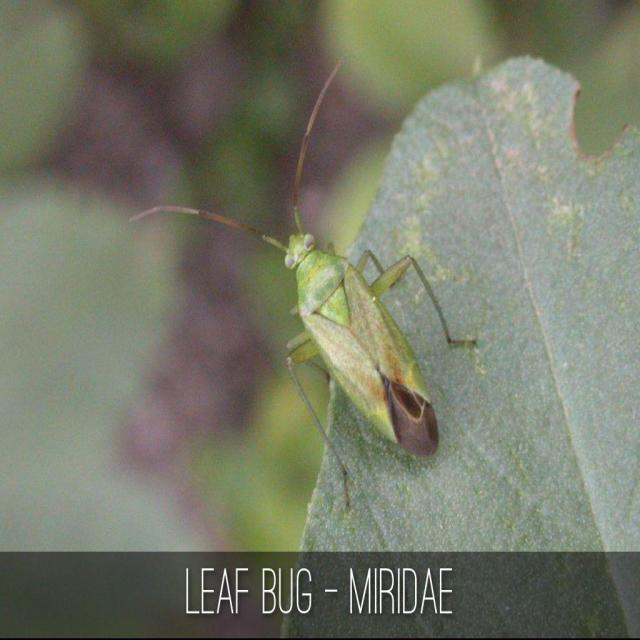Miridae-Adult-: (125, 48, 481, 512)
